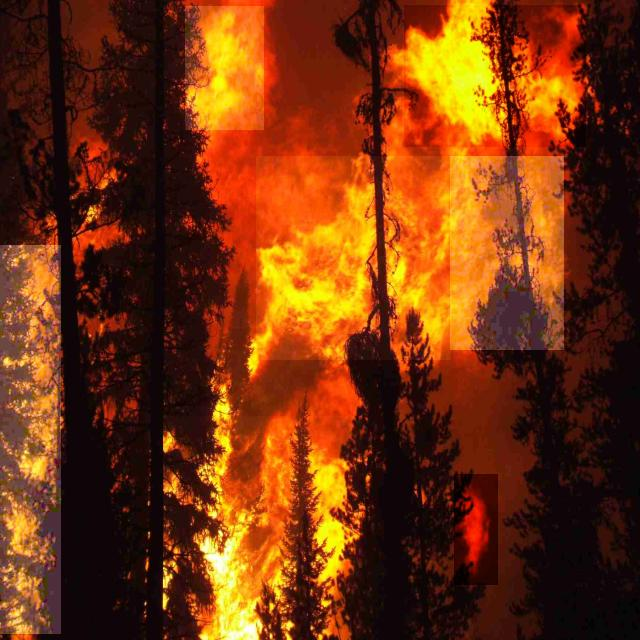Fire: (164, 416, 362, 640), (256, 157, 451, 360), (404, 5, 586, 147), (0, 245, 61, 634), (450, 157, 564, 350), (185, 6, 264, 130), (454, 474, 498, 585)
